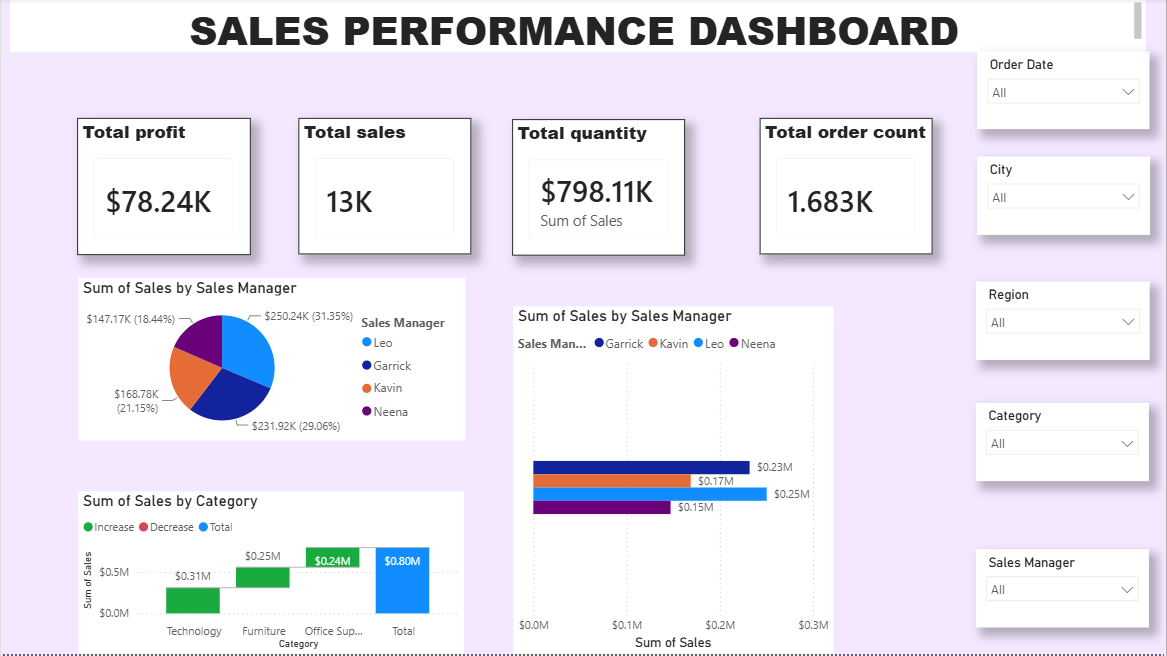

Layout of this report page (visuals, bound fields, positions):
{"tool":"powerbi","page":{"name":"Report 1","canvas":[1280,720],"ordinal":0},"visuals":[{"type":"textbox","box":[9.6,0,1247.3,59],"z":0},{"type":"cardVisual","title":"Total profit","fields":{"Data":["Sum(Project 2 Data.Profit)"]},"box":[84.1,131.1,190,150],"z":1000},{"type":"cardVisual","title":"Total sales","fields":{"Data":["Sum(Project 2 Data.Quantity)"]},"box":[326.4,131.1,189.6,149.7],"z":2000},{"type":"cardVisual","title":"Total quantity","fields":{"Data":["Sum(Project 2 Data.Sales)"]},"box":[561.6,132.6,189.6,149.7],"z":3000},{"type":"cardVisual","title":"Total order count","fields":{"Data":["Count(Project 2 Data.Order ID)"]},"box":[832.4,131.1,189.6,149.7],"z":4000},{"type":"pieChart","fields":{"Y":["Sum(Project 2 Data.Sales)"],"Category":["Project 2 Data.Sales Manager"]},"box":[84.5,307.6,424.7,178.6],"z":5000},{"type":"clusteredBarChart","fields":{"Series":["Project 2 Data.Sales Manager"],"Y":["Sum(Project 2 Data.Sales)"]},"box":[562.2,339,351.1,381.2],"z":6000},{"type":"waterfallChart","fields":{"Category":["Project 2 Data.Category"],"Y":["Sum(Project 2 Data.Sales)"]},"box":[84.5,541.7,423.5,178.6],"z":7000},{"type":"slicer","fields":{"Values":["Project 2 Data.Order Date"]},"box":[1071.9,58.4,189,85],"z":8000},{"type":"slicer","fields":{"Values":["Project 2 Data.City"]},"box":[1071.3,173.7,189.4,85.7],"z":9000},{"type":"slicer","fields":{"Values":["Project 2 Data.Region"]},"box":[1070.1,311.3,190.6,85.7],"z":10000},{"type":"slicer","fields":{"Values":["Project 2 Data.Category"]},"box":[1070.1,444,189.4,85.7],"z":11000},{"type":"slicer","fields":{"Values":["Project 2 Data.Sales Manager"]},"box":[1070.1,605.6,189.4,85.7],"z":12000}]}

Visuals, with their boxes in screenshot pixels (x1, y1, x2, y2), scaled from the page's 1280x720 canvas onto the 1167x656 screenshot:
textbox: 9/0/1146/54
"Total profit" cardVisual: 77/119/250/256
"Total sales" cardVisual: 298/119/470/256
"Total quantity" cardVisual: 512/121/685/257
"Total order count" cardVisual: 759/119/932/256
pieChart - Sum(Project 2 Data.Sales) x Project 2 Data.Sales Manager: 77/280/464/443
clusteredBarChart - Project 2 Data.Sales Manager x Sum(Project 2 Data.Sales): 513/309/833/655
waterfallChart - Project 2 Data.Category x Sum(Project 2 Data.Sales): 77/494/463/655
slicer - Project 2 Data.Order Date: 977/53/1150/131
slicer - Project 2 Data.City: 977/158/1149/236
slicer - Project 2 Data.Region: 976/284/1149/362
slicer - Project 2 Data.Category: 976/405/1148/483
slicer - Project 2 Data.Sales Manager: 976/552/1148/630
